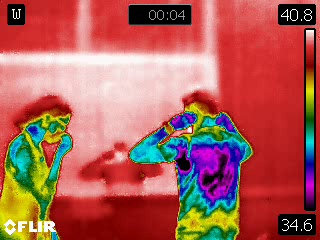human: (129, 90, 255, 240), (1, 93, 79, 240)
